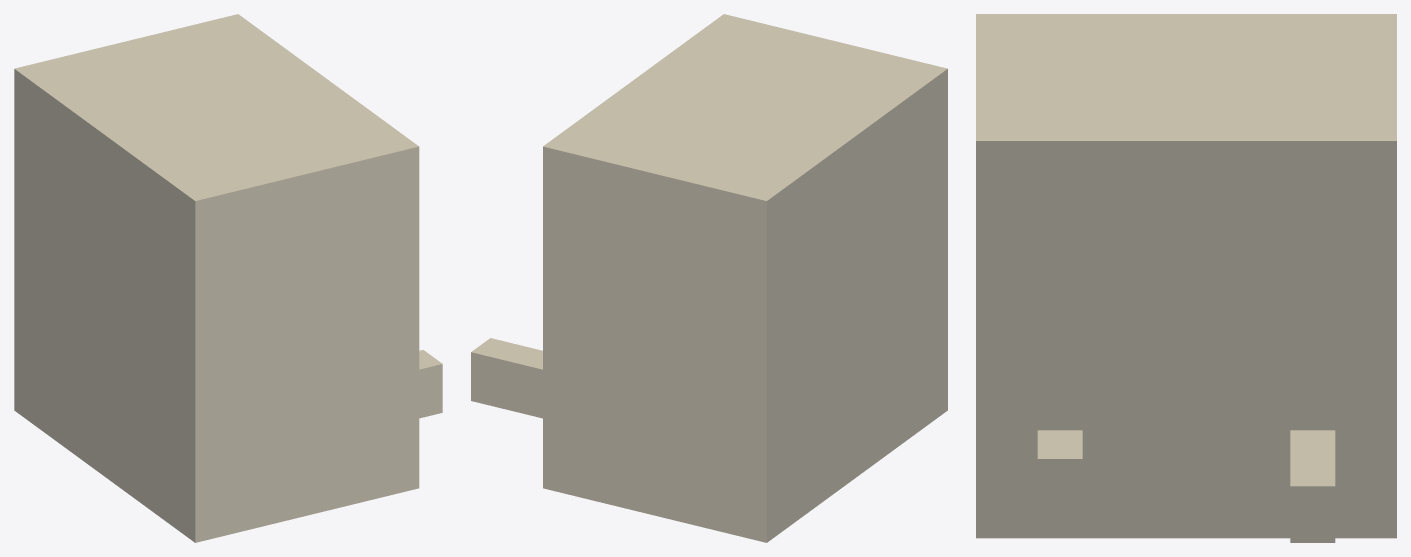
The model's file is BRAT_M5_R_LOW_04.glb.
3 renders of one model, left to right at view 1: azimuth 30°, elevation 25°; view 2: azimuth 150°, elevation 25°; view 3: azimuth 270°, elevation 25°, orthographic. The views are drawn at different scales.
Parts seen in each view (by area): view 1: BRAT_M5_R_LOW_04.001; view 2: BRAT_M5_R_LOW_04.001; view 3: BRAT_M5_R_LOW_04.001.
Boxes of the visible parts, x1=… form: BRAT_M5_R_LOW_04.001: x1=14, y1=14, x2=442, y2=542; BRAT_M5_R_LOW_04.001: x1=471, y1=14, x2=947, y2=542; BRAT_M5_R_LOW_04.001: x1=976, y1=14, x2=1396, y2=542.
Bounding box in the file's own units: 0.3454 × 0.35 × 0.336.
